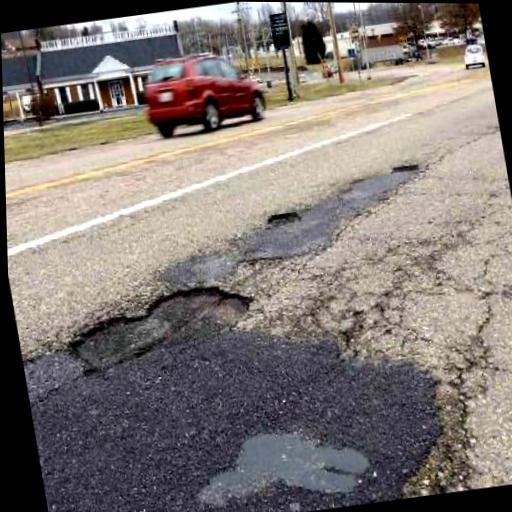pothole: (56, 277, 265, 382), (266, 206, 304, 230), (391, 157, 423, 176)
